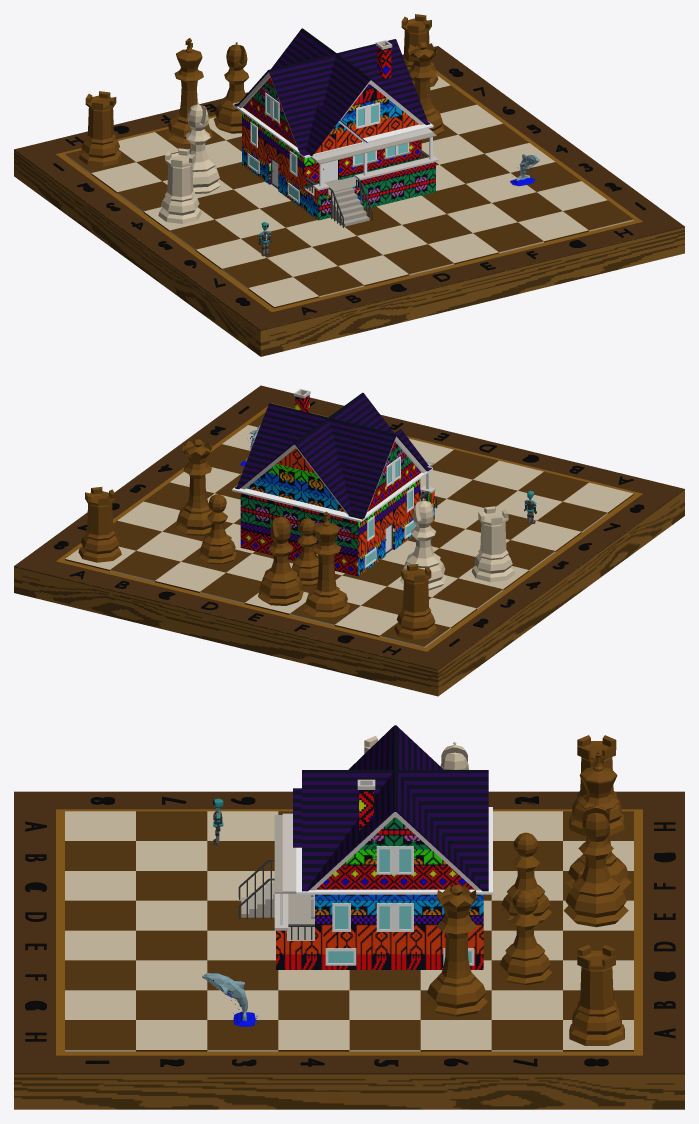
3 views of the same model, one above another, from view 1: azimuth 30°, elevation 25°; view 2: azimuth 150°, elevation 25°; view 3: azimuth 270°, elevation 25° (orthographic). The views are drawn at different scales.
Visible parts, largest first — view 1: Cube.002, Cube.966; view 2: Cube.002, Cube.966; view 3: Cube.002, Cube.966, ANIMAL_DELFIN.
Part boxes in pixels (x1=…): Cube.002: x1=14, y1=14, x2=684, y2=356; Cube.966: x1=232, y1=28, x2=438, y2=227; Cube.002: x1=14, y1=385, x2=684, y2=696; Cube.966: x1=232, y1=389, x2=437, y2=576; Cube.002: x1=14, y1=735, x2=684, y2=1109; Cube.966: x1=238, y1=725, x2=492, y2=969; ANIMAL_DELFIN: x1=202, y1=973, x2=257, y2=1027.
Bounding box in the file's own units: 3981 × 1434 × 4012.
31 materials, 7 textured.
